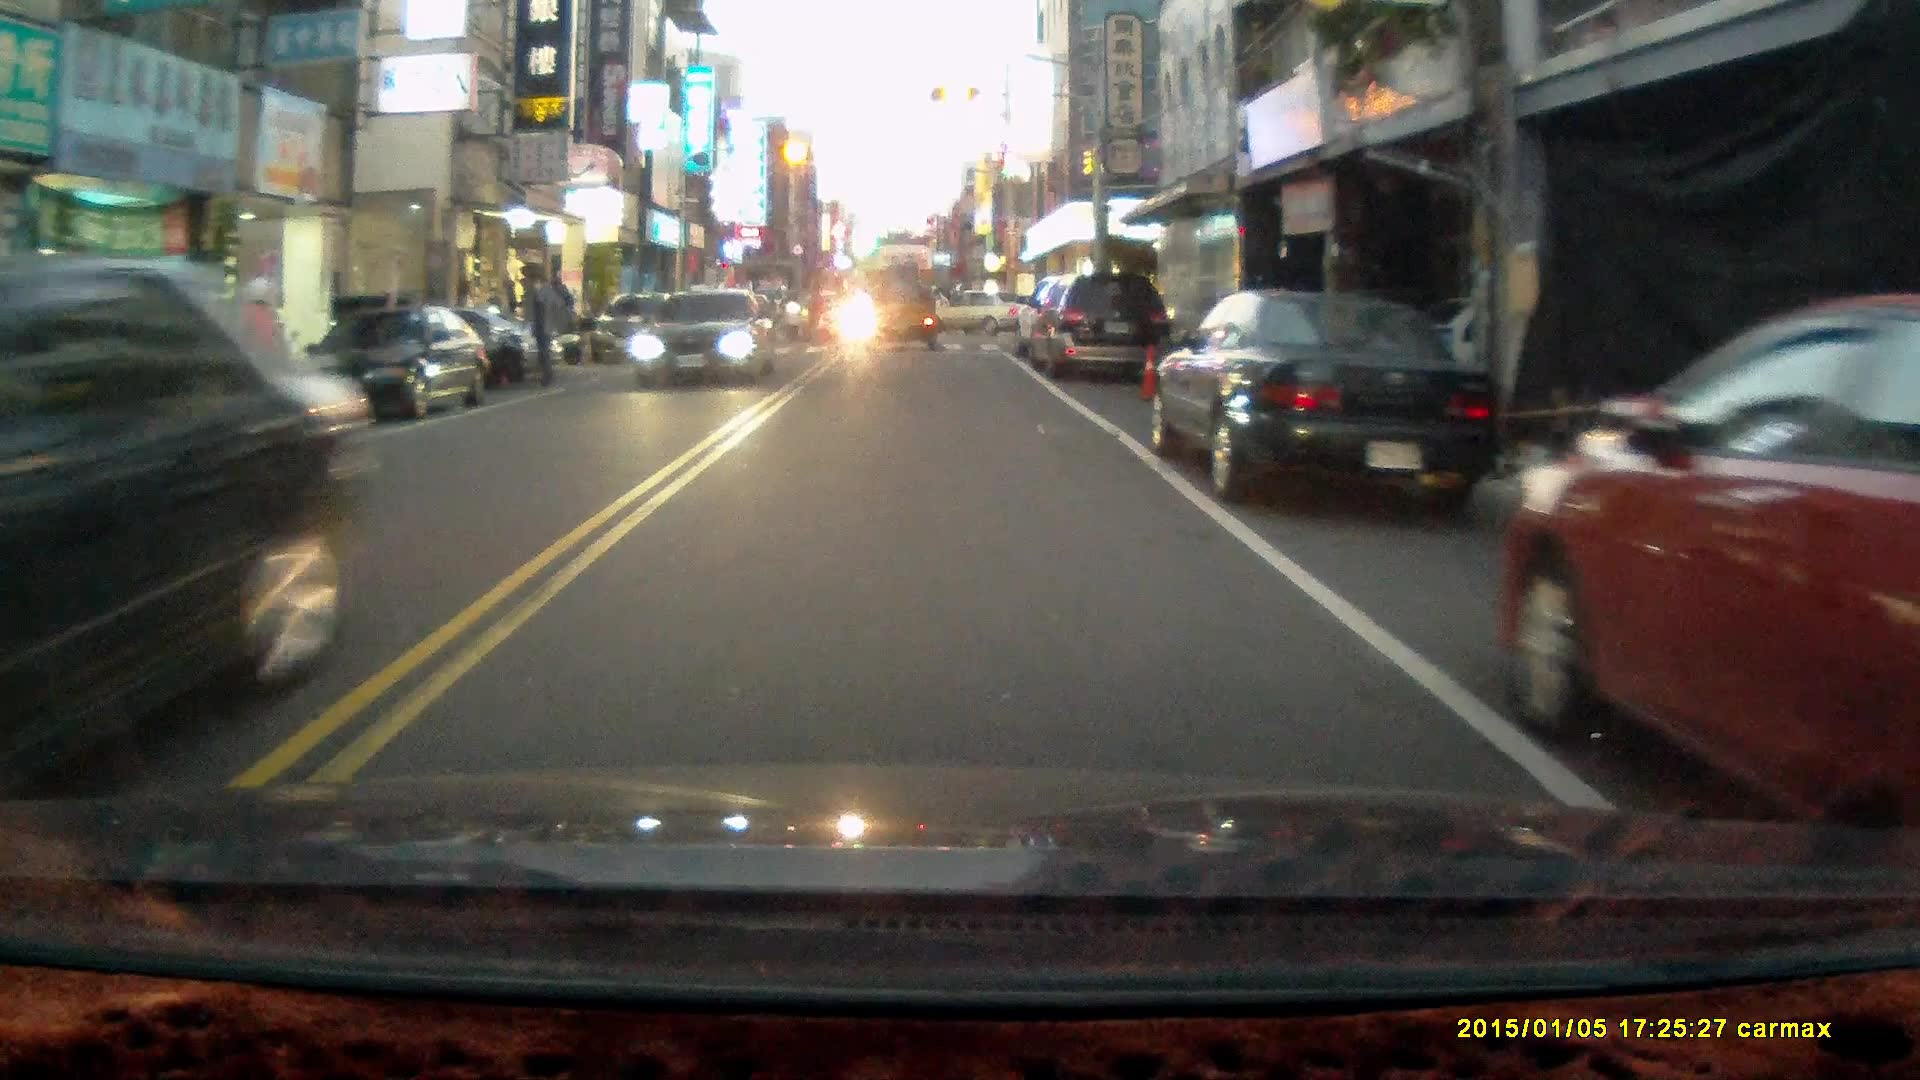pedestrian: (526, 268, 566, 388)
vehicle: (1500, 292, 1920, 843), (3, 255, 370, 805), (1146, 287, 1509, 520), (282, 296, 483, 417), (1023, 273, 1176, 384), (633, 285, 778, 388), (920, 286, 1049, 337), (866, 269, 939, 354)
